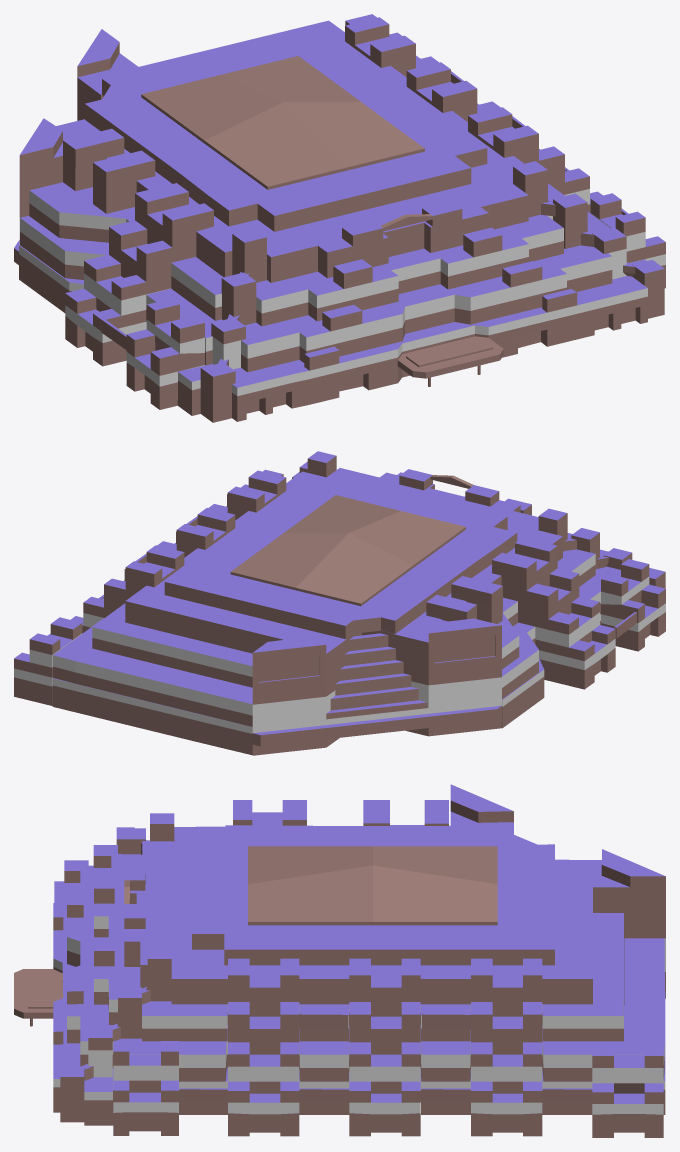
The model's file is 101DealCenterFixed.fbx.
The picture shows the model from 3 angles, top to bottom: view 1: azimuth 30°, elevation 25°; view 2: azimuth 150°, elevation 25°; view 3: azimuth 270°, elevation 25°; orthographic projection. The views are drawn at different scales.
Visible parts, largest first — view 1: Cube.014, Cube.006, Cube.003, Cube.019, Cube.016, Cube.002; view 2: Cube.014, Cube.003, Cube.006, Cube.019, Cube.016; view 3: Cube.014, Cube.003, Cube.006, Cube.019, Cube.016, Cube.002.
Part boxes in pixels (left/top/right/bottom): Cube.014: left=19, top=17, right=587, bottom=301; Cube.006: left=19, top=14, right=645, bottom=344; Cube.003: left=19, top=55, right=665, bottom=388; Cube.019: left=14, top=240, right=665, bottom=422; Cube.016: left=141, top=56, right=424, bottom=189; Cube.002: left=397, top=338, right=503, bottom=378; Cube.014: left=104, top=451, right=599, bottom=683; Cube.003: left=14, top=506, right=665, bottom=727; Cube.006: left=29, top=469, right=649, bottom=704; Cube.019: left=14, top=582, right=665, bottom=755; Cube.016: left=230, top=495, right=465, bottom=606; Cube.014: left=94, top=784, right=665, bottom=1029; Cube.003: left=53, top=854, right=665, bottom=1103; Cube.006: left=67, top=825, right=665, bottom=1067; Cube.019: left=53, top=881, right=665, bottom=1137; Cube.016: left=248, top=846, right=497, bottom=925; Cube.002: left=14, top=969, right=53, bottom=1018.
Bounding box in the file's own units: 254 × 72.18 × 286.
